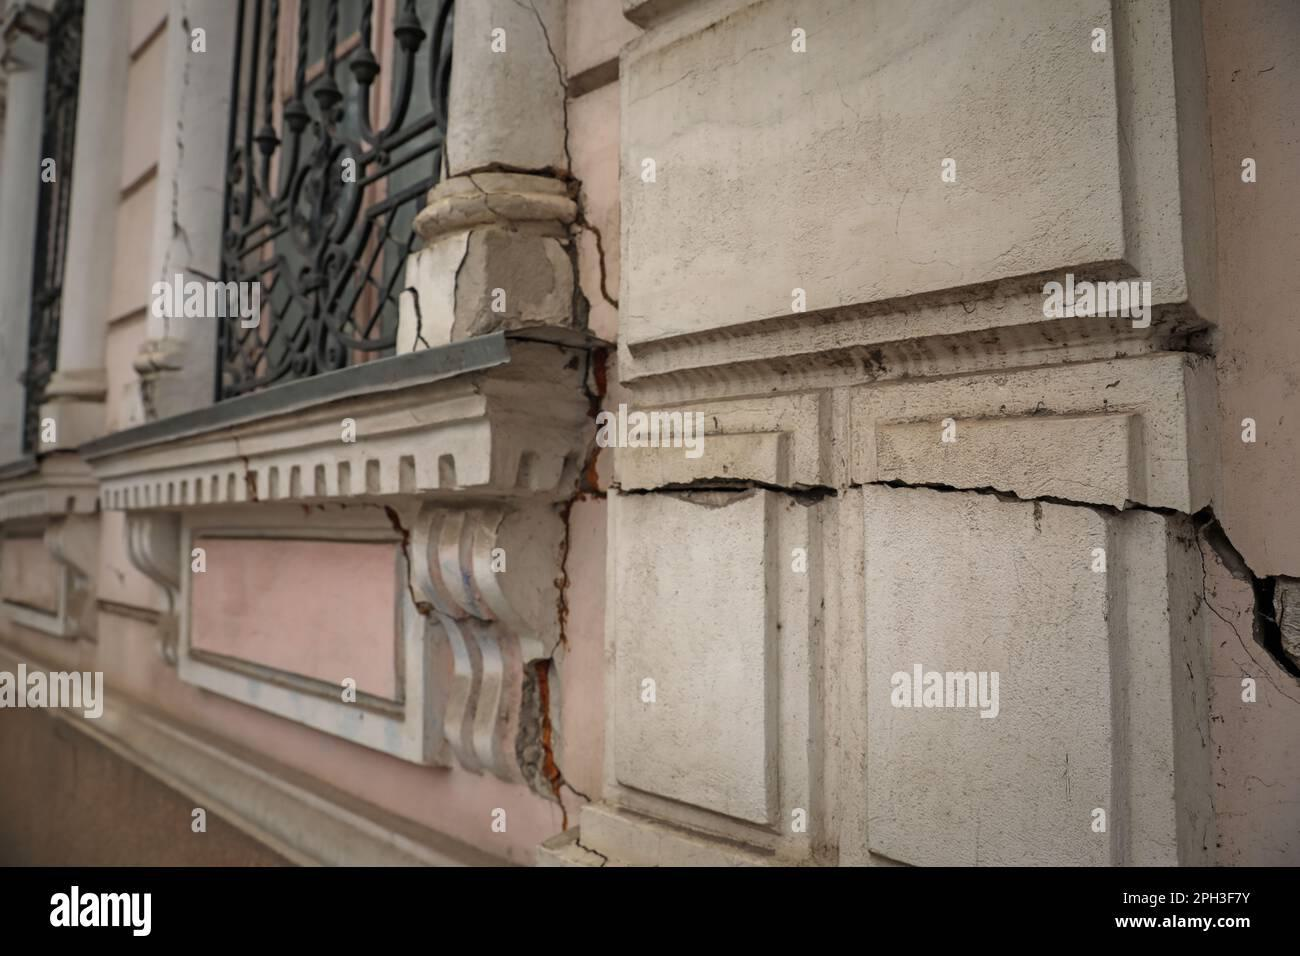crack: (923, 460, 1092, 533), (556, 290, 629, 428), (548, 461, 681, 533), (711, 465, 869, 522), (539, 146, 615, 260)
